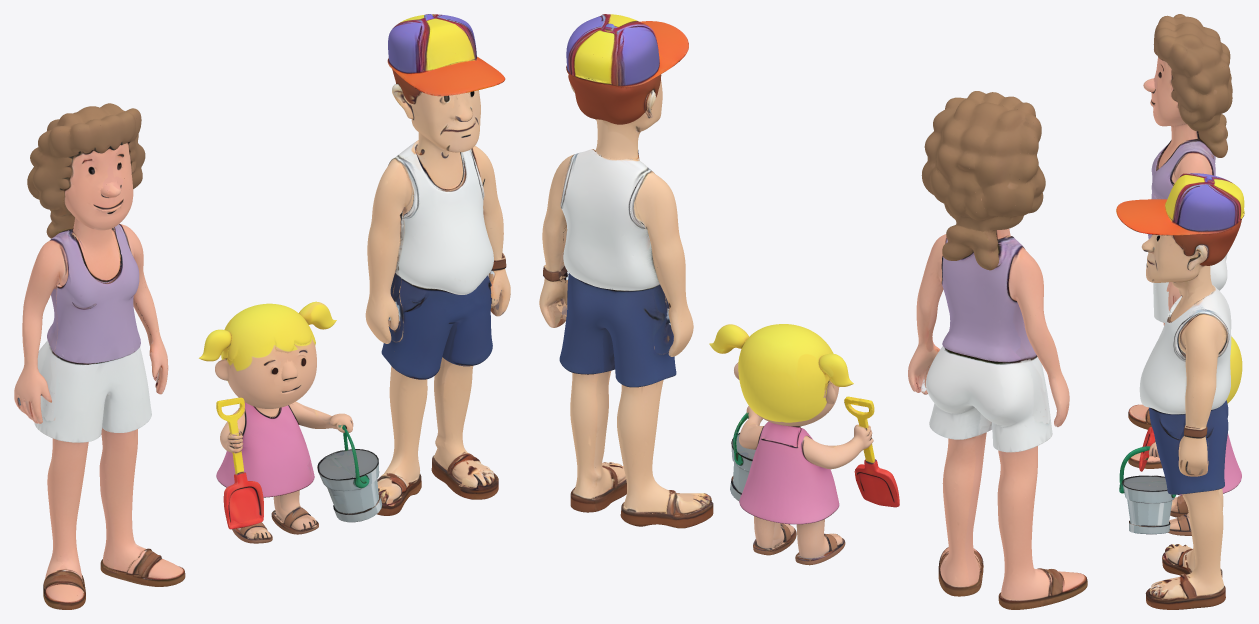
File: FamiliaC62.glb
3 views of the same model, side by side, from view 1: azimuth 30°, elevation 25°; view 2: azimuth 150°, elevation 25°; view 3: azimuth 270°, elevation 25° (orthographic). The views are drawn at different scales.
Parts seen in each view (by area): view 1: model, model.001, model.002; view 2: model.001, model, model.002; view 3: model.001, model, model.002.
Boxes of the visible parts, x1,y1,x2,y2 form: model: [14, 103, 185, 609]; model.001: [365, 14, 510, 515]; model.002: [199, 301, 382, 543]; model.001: [539, 14, 713, 528]; model: [908, 91, 1087, 609]; model.002: [709, 324, 899, 565]; model.001: [1116, 173, 1244, 609]; model: [1128, 14, 1232, 468]; model.002: [1119, 336, 1242, 535].
Size of the model in its own units: 2.1 by 1.9 by 0.5286.
Materials: 3 (3 with a texture image).
